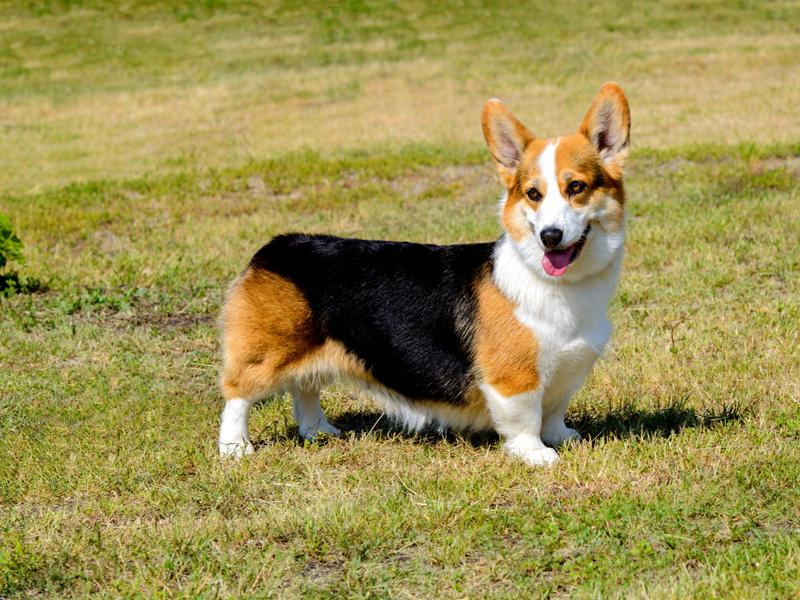corgi: (478, 80, 636, 280)
